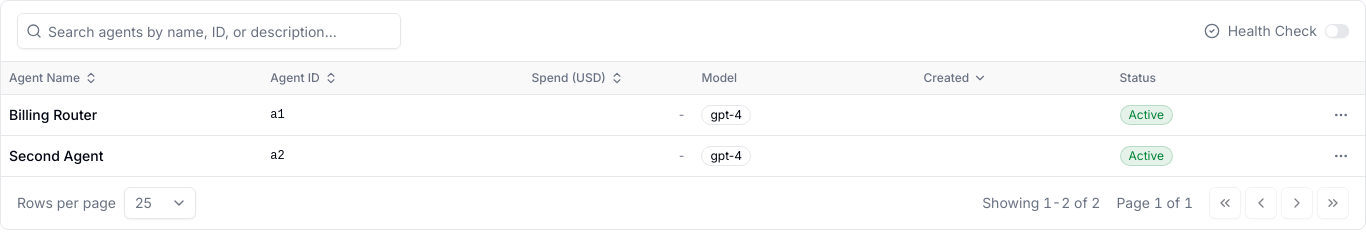
AgentsTable › filters agents by name or by agent card description
The image size is (1366, 247).
Step 1. Type "billing" into the field with placeholder "Search agents by name, ID, or description..." → (221, 31), box [42,13,400,49]
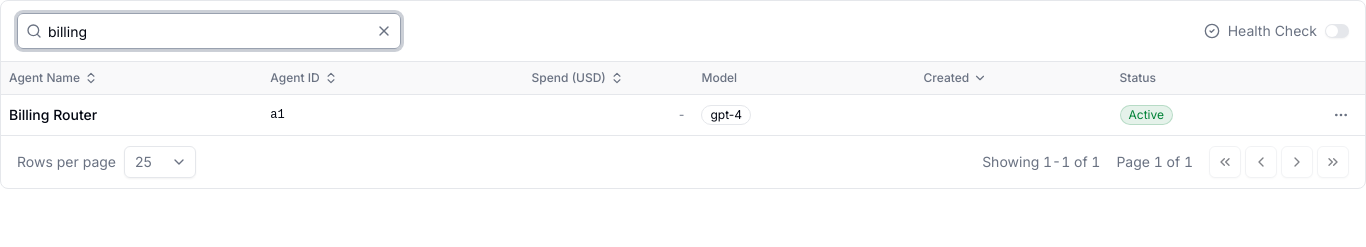
Expected: the text "Billing Router" is shown, [9,106,97,122]
Expected: the text "Second Agent" is gone
Step 2. Clear the field with placeholder "Search agents by name, ID, or description..." → (207, 31), box [42,13,372,49]
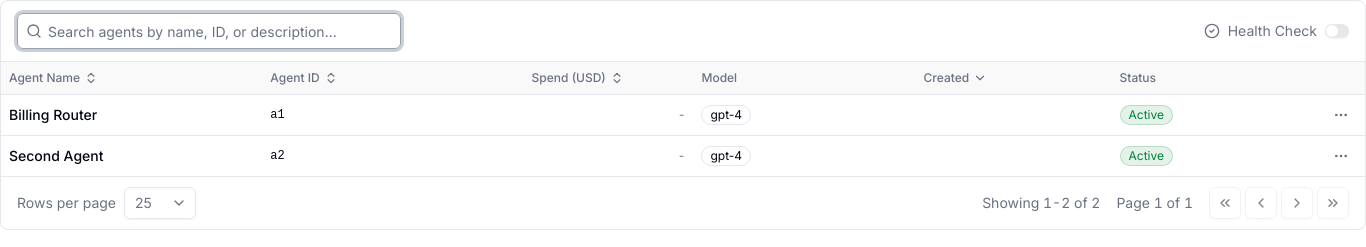
Step 3. Type "support tickets" into the field with placeholder "Search agents by name, ID, or description..." → (221, 31), box [42,13,400,49]
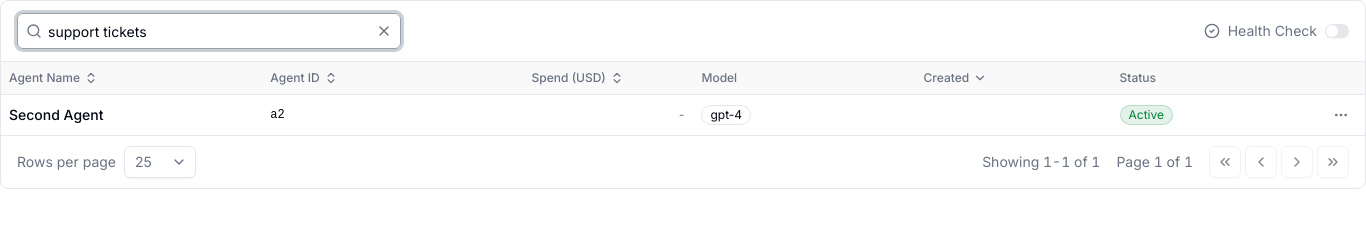
Expected: the text "Second Agent" is shown, [9,106,104,122]
Expected: the text "Billing Router" is gone
